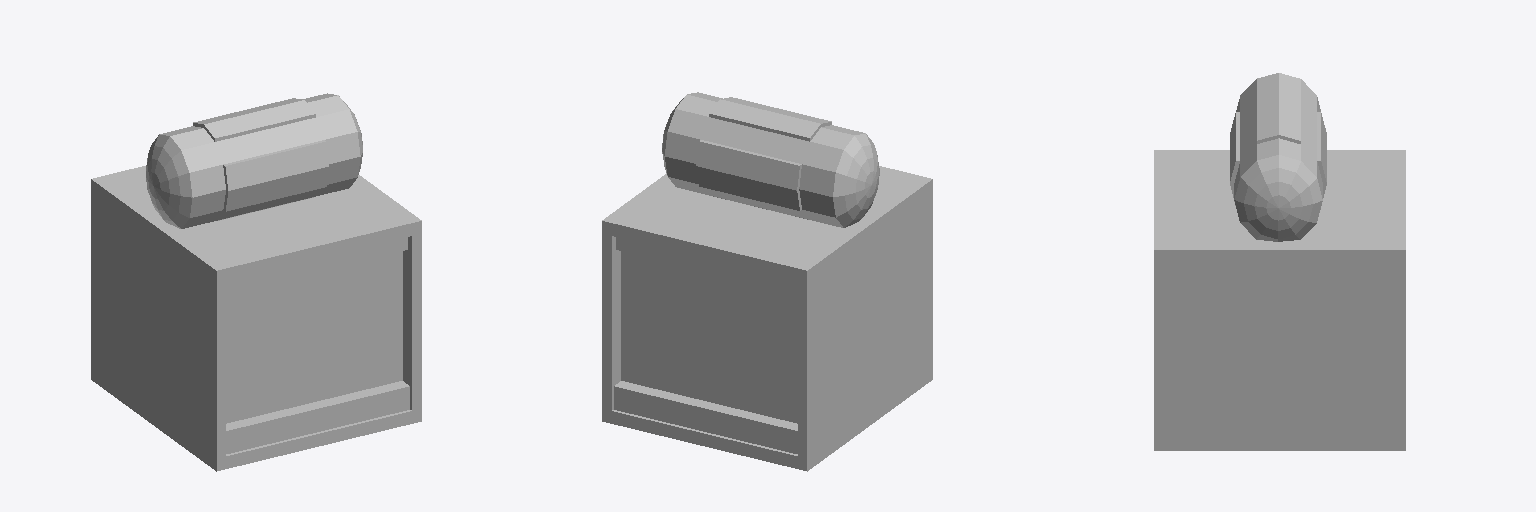
The model's file is storage with rolled mat.obj.
3 views of the same model, side by side, from view 1: azimuth 30°, elevation 25°; view 2: azimuth 150°, elevation 25°; view 3: azimuth 270°, elevation 25° (orthographic).
Parts seen in each view (by area): view 1: Box031, OilTank001; view 2: Box031, OilTank001; view 3: Box031, OilTank001.
Boxes of the visible parts, x1,y1,x2,y2 form: Box031: [91, 166, 421, 471]; OilTank001: [146, 93, 362, 228]; Box031: [602, 166, 932, 471]; OilTank001: [662, 92, 879, 227]; Box031: [1154, 150, 1405, 450]; OilTank001: [1230, 73, 1326, 241].
Bounding box in the file's own units: 77.94 × 104 × 82.13.